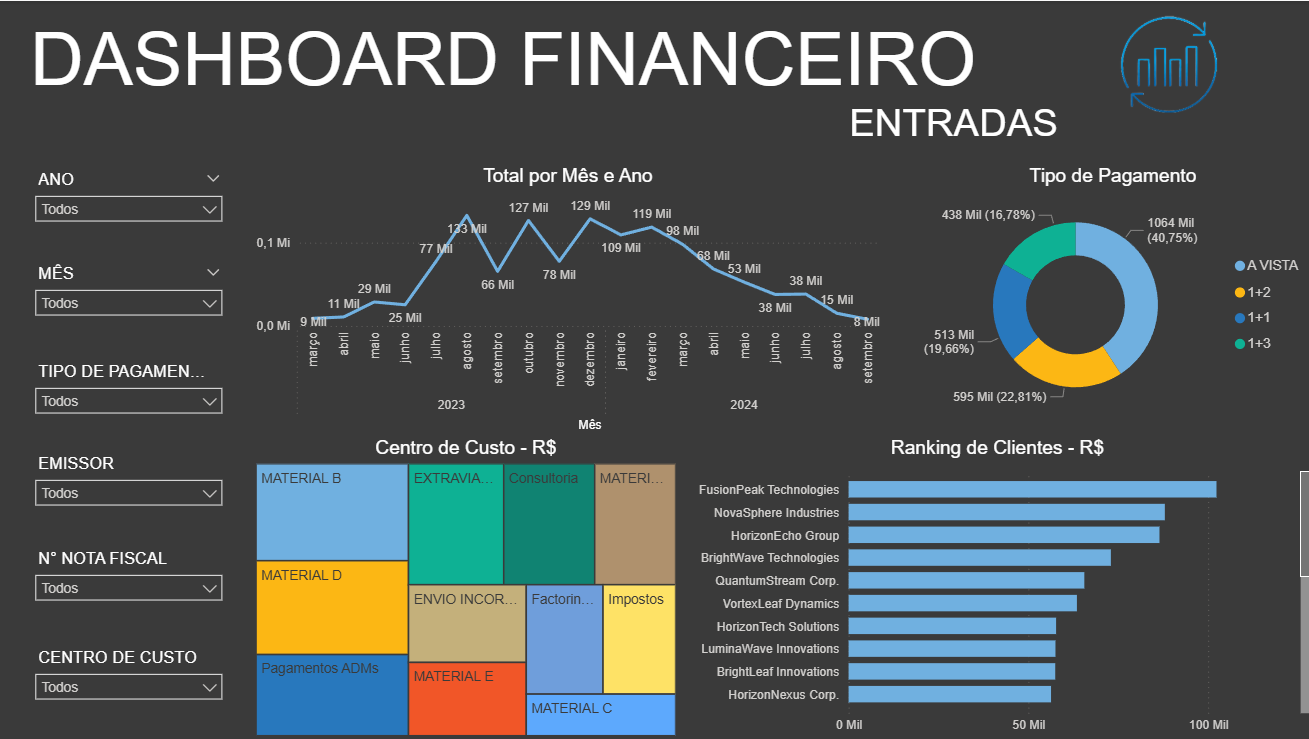

Layout of this report page (visuals, bound fields, positions):
{"tool":"powerbi","page":{"name":"Entradas","canvas":[1280,720],"ordinal":0},"visuals":[{"type":"slicer","fields":{"Values":["BASE.ANO"]},"box":[26.3,159.5,202.3,73.9],"z":0},{"type":"slicer","fields":{"Values":["BASE.MÊS"]},"box":[26.3,250.9,202.3,68.1],"z":1000},{"type":"textbox","box":[26.3,10.7,1001.8,102.1],"z":2000},{"type":"slicer","fields":{"Values":["BASE.EMISSOR"]},"box":[26.3,435.7,202.3,64.2],"z":3000},{"type":"slicer","fields":{"Values":["BASE.N° NOTA FISCAL"]},"box":[26.3,528.1,202.3,72.9],"z":4000},{"type":"slicer","fields":{"Values":["BASE.TIPO DE PAGAMENTO"]},"box":[26.3,346.3,202.3,64.2],"z":5000},{"type":"lineChart","title":"Total por Mês e Ano","fields":{"Y":["Sum(BASE.R$ TOTAL)"],"Category":["BASE.DATA DE EMISSÃO.Variation.Hierarquia de datas.Ano","BASE.DATA DE EMISSÃO.Variation.Hierarquia de datas.Mês"]},"box":[246.1,159.5,616.7,264.6],"z":6000},{"type":"barChart","title":"Ranking de Clientes - R$","fields":{"Category":["BASE.EMISSOR"],"Y":["Sum(BASE.R$ TOTAL)"]},"box":[664.3,424.1,615.7,295.7],"z":7000},{"type":"slicer","fields":{"Values":["BASE.CENTRO DE CUSTO"]},"box":[26.3,624.4,202.3,72.9],"z":8000},{"type":"image","box":[1029.1,0,219.8,124.5],"z":9000},{"type":"textbox","box":[822.9,92.4,278.2,67.1],"z":10000},{"type":"treemap","title":"Centro de Custo - R$","fields":{"Values":["Sum(BASE.R$ TOTAL)"],"Group":["BASE.CENTRO DE CUSTO"]},"box":[246.1,424.1,418.2,295.7],"z":11000},{"type":"donutChart","title":"Tipo de Pagamento","fields":{"Y":["Sum(BASE.R$ TOTAL)"],"Category":["BASE.TIPO DE PAGAMENTO"]},"box":[889,159.5,391,250.9],"z":12000}]}

Visuals, with their boxes in screenshot pixels (x1, y1, x2, y2), scaled from the page's 1280x720 canvas onto the 1309x739 screenshot:
slicer - BASE.ANO: detection(27, 164, 234, 240)
slicer - BASE.MÊS: detection(27, 258, 234, 327)
textbox: detection(27, 11, 1051, 116)
slicer - BASE.EMISSOR: detection(27, 447, 234, 513)
slicer - BASE.N° NOTA FISCAL: detection(27, 542, 234, 617)
slicer - BASE.TIPO DE PAGAMENTO: detection(27, 355, 234, 421)
"Total por Mês e Ano" lineChart: detection(252, 164, 882, 435)
"Ranking de Clientes - R$" barChart: detection(679, 435, 1308, 738)
slicer - BASE.CENTRO DE CUSTO: detection(27, 641, 234, 716)
image: detection(1052, 0, 1277, 128)
textbox: detection(842, 95, 1126, 164)
"Centro de Custo - R$" treemap: detection(252, 435, 679, 738)
"Tipo de Pagamento" donutChart: detection(909, 164, 1308, 421)
